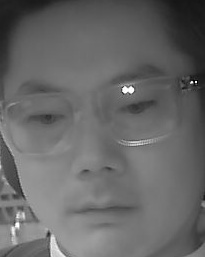eye: (24, 110, 64, 129), (115, 99, 155, 115)
glass: (97, 77, 183, 144), (2, 94, 78, 154)
mouth: (66, 194, 137, 236)
